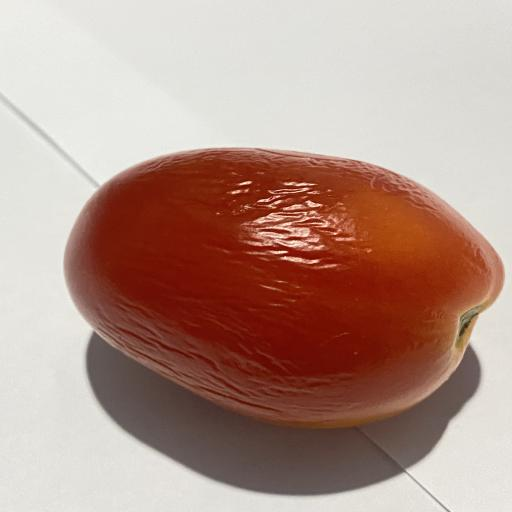spoiled: (65, 148, 503, 427)
